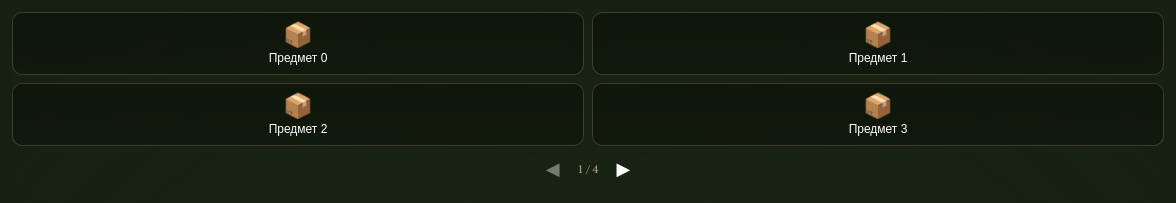
Test: ItemPicker › показывает стрелки и счётчик, листает страницы по 4
Expected: the text "1 / 4" is shown, 578,162 -> 598,176
Expected: the text "Предмет 4" is not shown
Click the button "▶" at (623, 169), box 608,152 -> 638,186
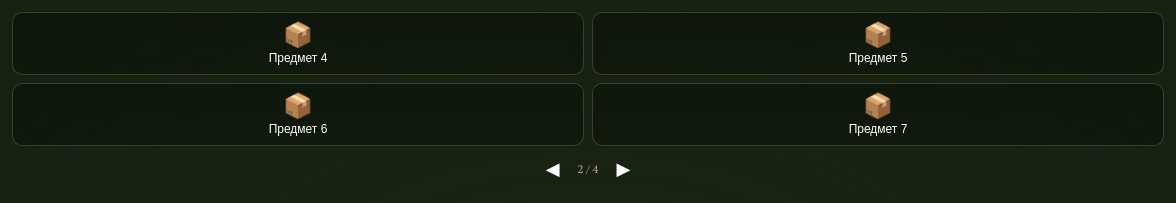
Now the text "Предмет 4" is shown, box 269,51 -> 327,65
Now the button "Предмет 0" is gone
Now the text "2 / 4" is shown, box 578,162 -> 598,176
Click the button "◀" at (553, 169), box 538,152 -> 568,186
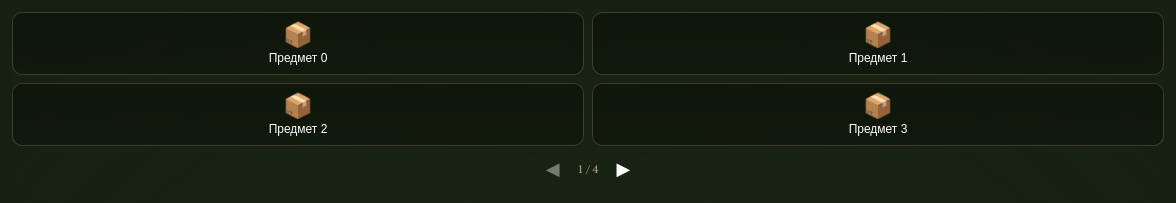
Now the text "Предмет 0" is shown, box 269,51 -> 327,65
Now the text "1 / 4" is shown, box 578,162 -> 598,176
